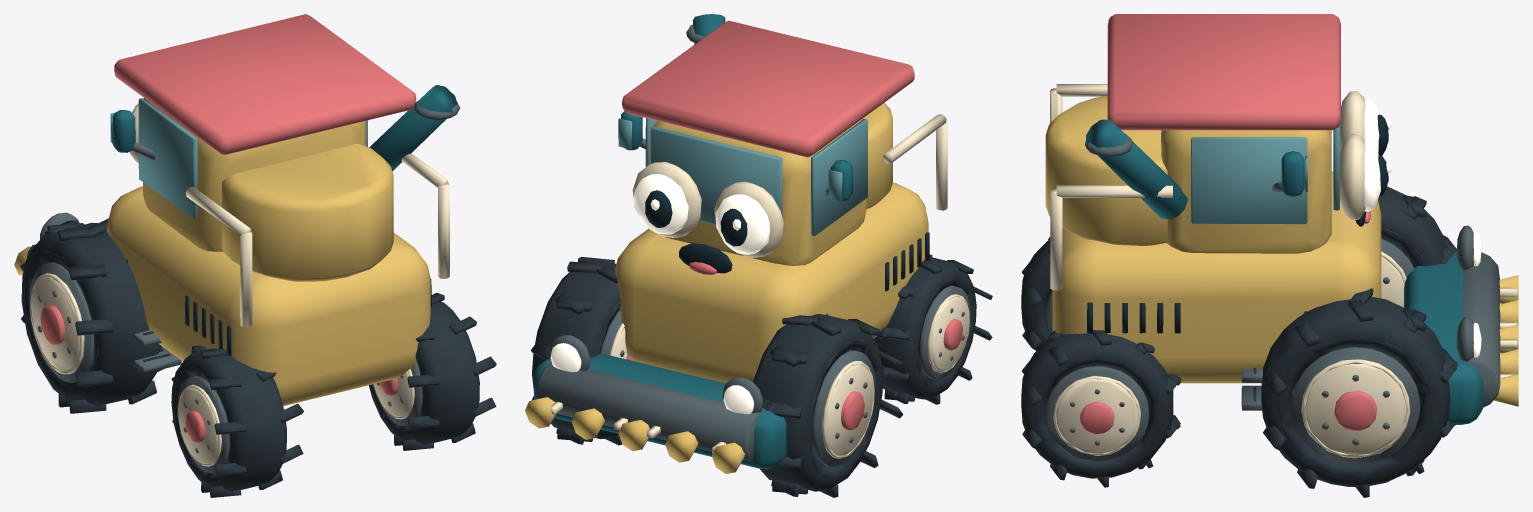
File: pipoca_mobile.glb
3 views of the same model, side by side, from view 1: azimuth 30°, elevation 25°; view 2: azimuth 150°, elevation 25°; view 3: azimuth 270°, elevation 25° (orthographic). The views are drawn at different scales.
Parts seen in each view (by area): view 1: Body, WheelFL, WheelRL, WheelRR; view 2: Body, WheelFL, WheelRL, Eyes, WheelFR; view 3: Body, WheelFR, WheelRR, WheelFL, Eyes, WheelRL.
Boxes of the visible parts, x1,y1,x2,y2 form: Body: [14, 14, 459, 405]; WheelFL: [20, 218, 163, 413]; WheelRL: [171, 345, 303, 497]; WheelRR: [369, 292, 496, 450]; Body: [525, 14, 947, 473]; WheelFL: [753, 313, 903, 497]; WheelRL: [874, 254, 992, 404]; Eyes: [632, 162, 783, 257]; WheelFR: [531, 257, 633, 445]; Body: [1045, 14, 1518, 424]; WheelFR: [1261, 288, 1458, 497]; WheelRR: [1021, 330, 1181, 487]; WheelFL: [1378, 186, 1456, 307]; Eyes: [1340, 90, 1391, 220]; WheelRL: [1021, 237, 1052, 350].
Bounding box in the file's own units: 2.71 × 2.76 × 3.41.
